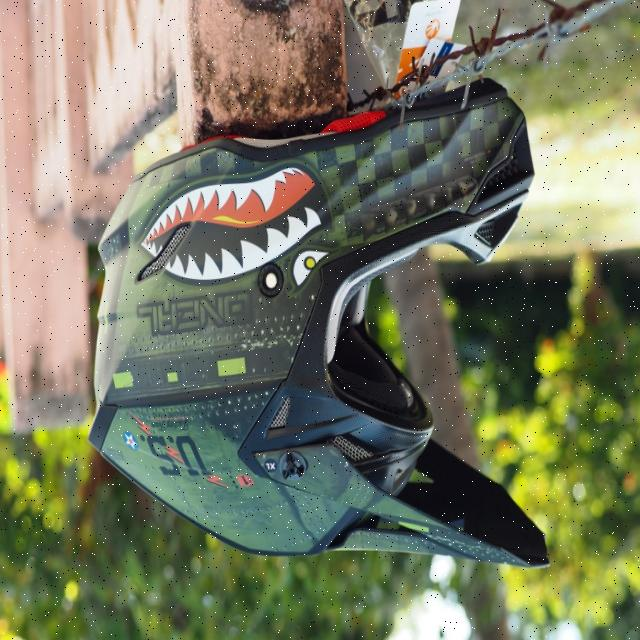Helmet: (90, 81, 548, 567)
